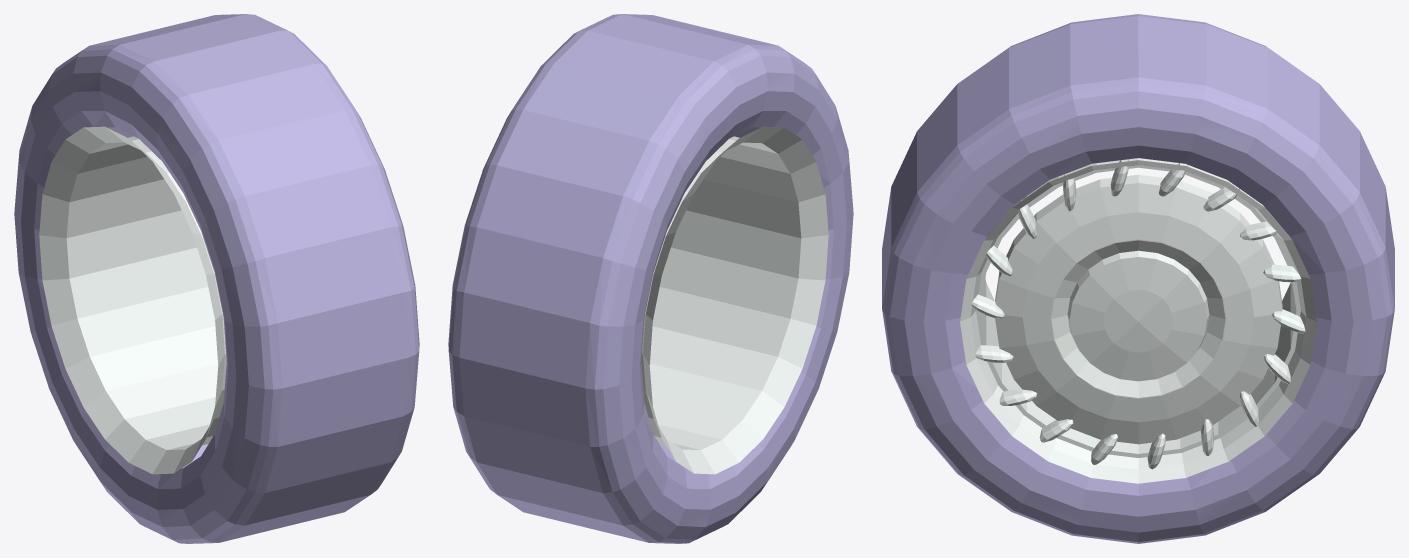
Rendered from LeftWheel.dae.
3 views of the same model, side by side, from view 1: azimuth 30°, elevation 25°; view 2: azimuth 150°, elevation 25°; view 3: azimuth 270°, elevation 25° (orthographic).
Visible parts, largest first — view 1: Group03_Layer_SM13_Layer_SM13_Geometry_0_sub77; view 2: Group03_Layer_SM13_Layer_SM13_Geometry_0_sub77; view 3: Group03_Layer_SM13_Layer_SM13_Geometry_0_sub77.
Part boxes in pixels (x1,y1,x2,y2): Group03_Layer_SM13_Layer_SM13_Geometry_0_sub77: (14,14,419,543); Group03_Layer_SM13_Layer_SM13_Geometry_0_sub77: (448,14,853,543); Group03_Layer_SM13_Layer_SM13_Geometry_0_sub77: (882,14,1394,543).
Bounding box in the file's own units: 0.2 × 0.5045 × 0.5045.
